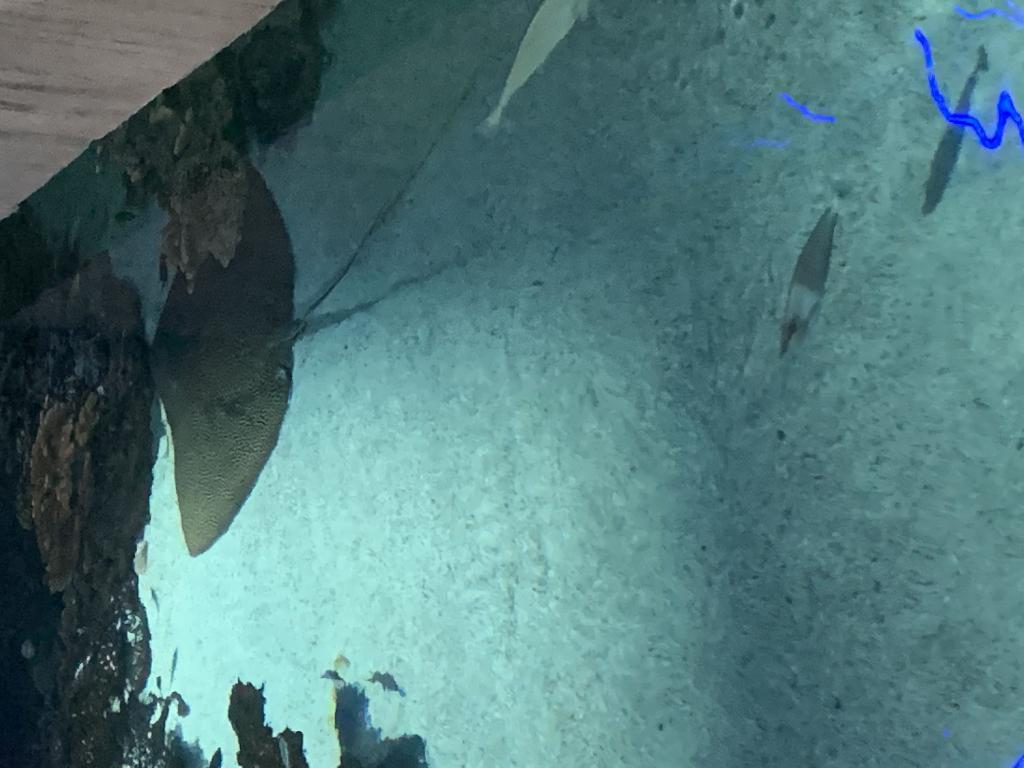fish: (479, 0, 590, 139), (775, 177, 851, 362), (923, 46, 989, 216)
stingray: (146, 154, 294, 560)
